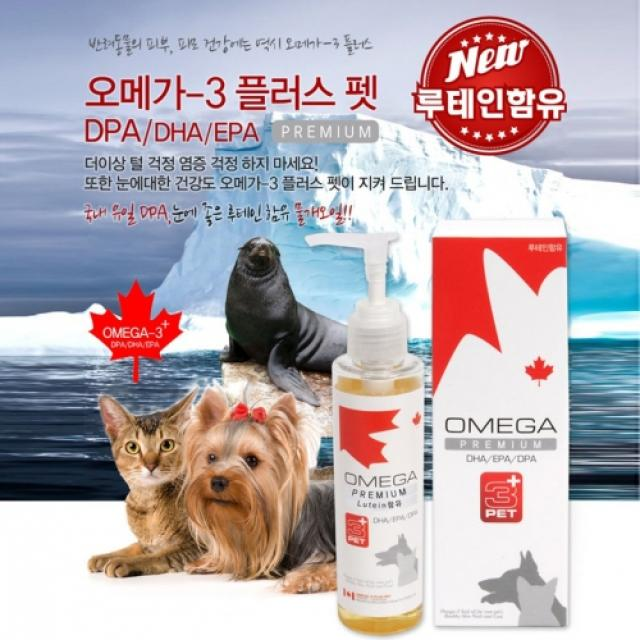WaterDog: (226, 232, 329, 364)
